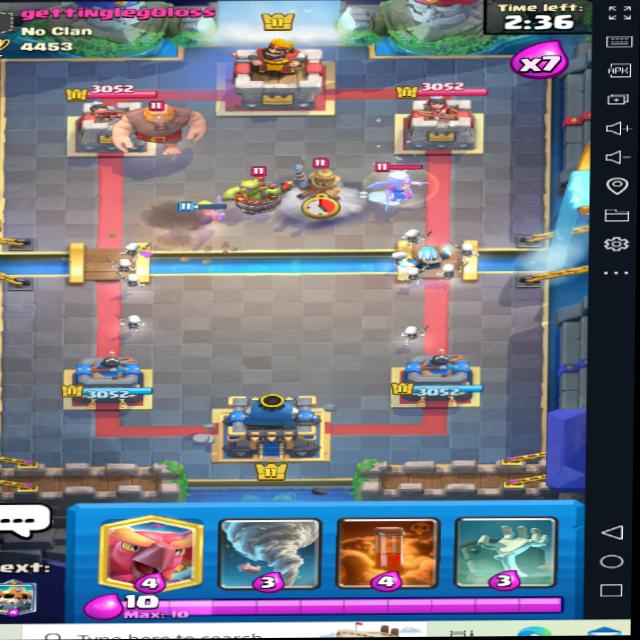Battlehealer: (362, 163, 436, 209)
Giant: (115, 96, 210, 154)
Goblindemolisher: (225, 167, 288, 215)
Prince: (288, 158, 352, 214)
